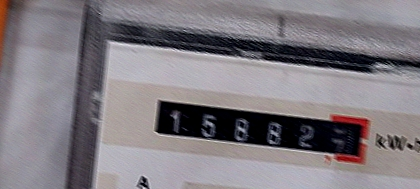1: (165, 105, 183, 135)
2: (296, 121, 315, 151)
5: (197, 110, 219, 139)
7: (327, 135, 345, 154)
8: (230, 114, 249, 144), (264, 118, 282, 147)
screen: (139, 82, 380, 174)
